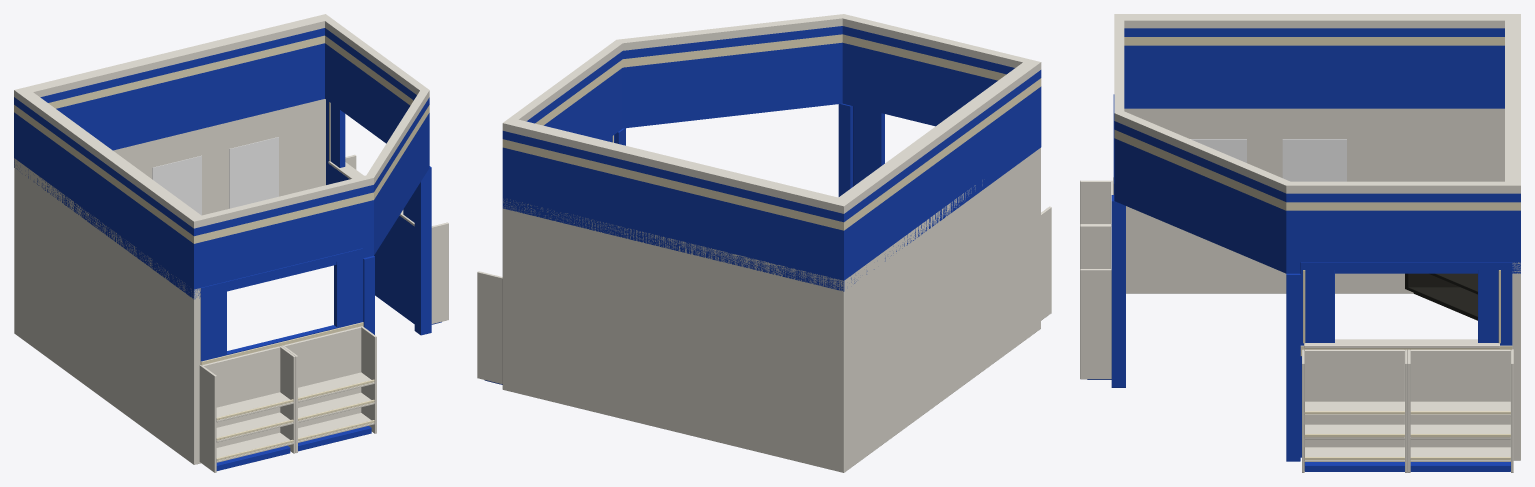
File: clubhouse.glb
3 views of the same model, side by side, from view 1: azimuth 30°, elevation 25°; view 2: azimuth 150°, elevation 25°; view 3: azimuth 270°, elevation 25° (orthographic). The views are drawn at different scales.
Visible parts, largest first — view 1: PanelLaminate, HeaderPaint, FramePaint, EdgePaint, WallPoster; view 2: PanelLaminate, HeaderPaint, FramePaint, EdgePaint; view 3: PanelLaminate, HeaderPaint, FramePaint, EdgePaint, WallPoster, CabinetLaminate.
Boxes of the visible parts, <box> form: PanelLaminate: <box>14,14,448,472</box>; HeaderPaint: <box>14,28,429,289</box>; FramePaint: <box>14,88,441,470</box>; EdgePaint: <box>14,35,429,460</box>; WallPoster: <box>152,137,278,215</box>; PanelLaminate: <box>477,14,1051,472</box>; HeaderPaint: <box>502,26,1041,280</box>; FramePaint: <box>484,92,1041,384</box>; EdgePaint: <box>502,34,1041,230</box>; PanelLaminate: <box>1080,14,1520,472</box>; HeaderPaint: <box>1114,28,1520,262</box>; FramePaint: <box>1087,94,1520,471</box>; EdgePaint: <box>1113,37,1520,459</box>; WallPoster: <box>1190,139,1346,181</box>; CabinetLaminate: <box>1405,273,1477,320</box>.
Size of the model in its own units: 15.4 by 10.6 by 15.4.
